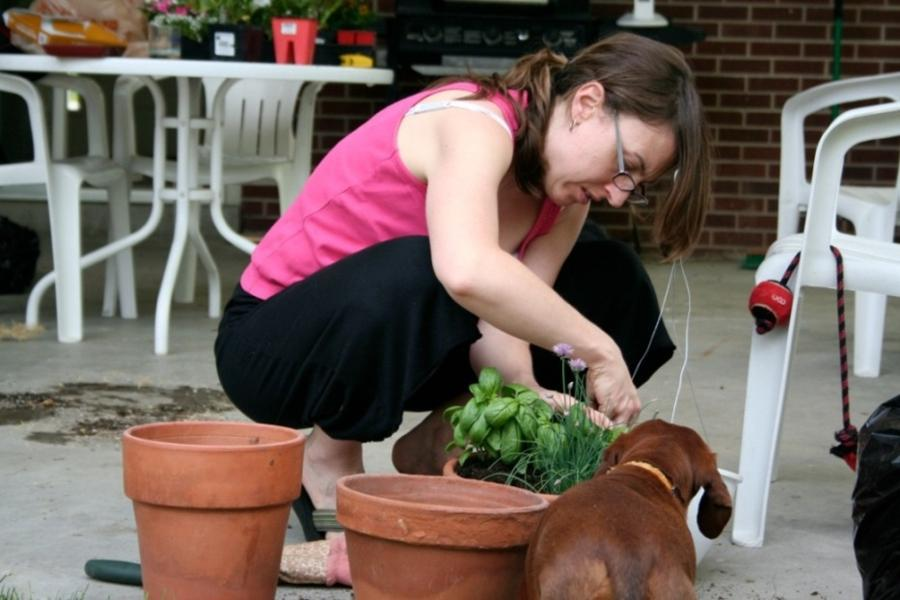person: (215, 31, 711, 542)
